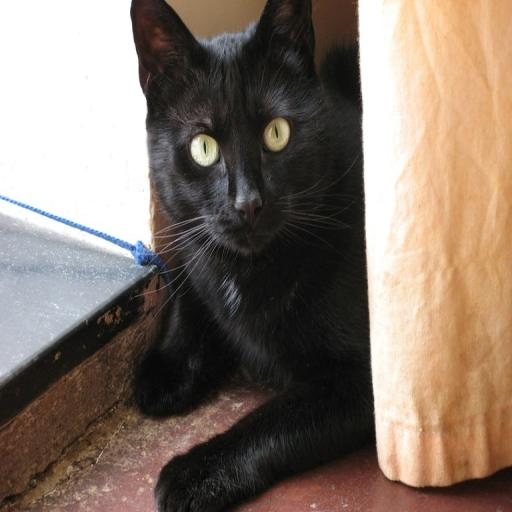cat: (130, 0, 375, 512)
